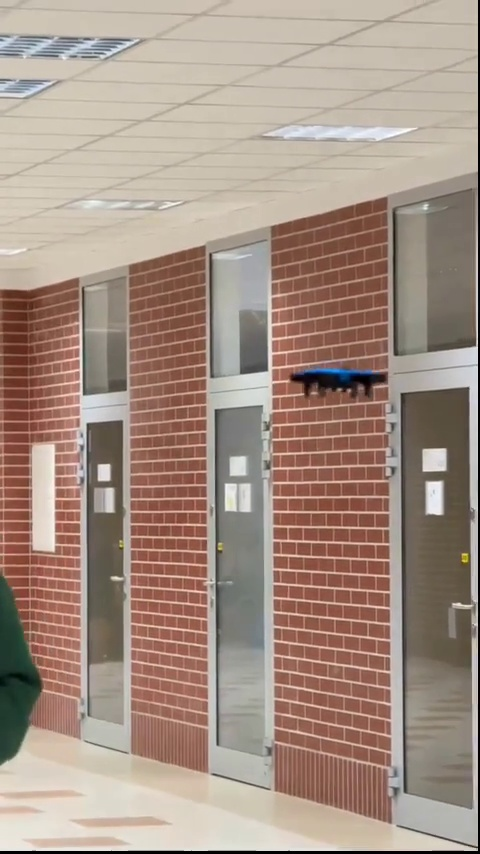drone: (291, 366, 390, 395)
